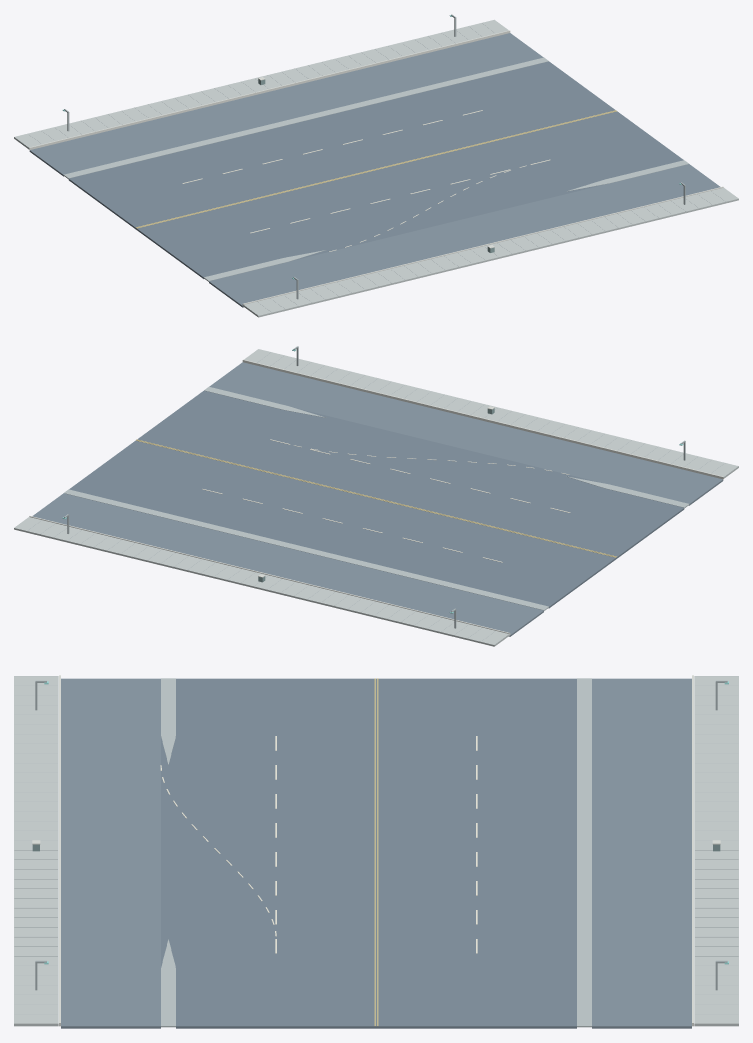
The model's file is city-w88-s39.glb.
The picture shows the model from 3 angles, top to bottom: view 1: azimuth 30°, elevation 25°; view 2: azimuth 150°, elevation 25°; view 3: azimuth 270°, elevation 25°; orthographic projection. The views are drawn at different scales.
Visible parts, largest first — view 1: Main_road, Frontage_roads, Sidewalk, Medians, Curbs, Merge_surface, Paving_joints, Center_lines; view 2: Main_road, Frontage_roads, Sidewalk, Medians, Curbs, Merge_surface, Paving_joints, Center_lines; view 3: Main_road, Frontage_roads, Sidewalk, Medians, Paving_joints, Merge_surface, Curbs, Center_lines.
Part boxes in pixels (box(x1,y1,x2,y2)): Main_road: box(68, 61, 683, 278); Frontage_roads: box(29, 33, 720, 307); Sidewalk: box(14, 19, 738, 317); Medians: box(63, 57, 688, 281); Curbs: box(29, 30, 723, 305); Merge_surface: box(290, 181, 606, 260); Paving_joints: box(14, 23, 725, 315); Center_lines: box(136, 110, 616, 228); Main_road: box(69, 390, 684, 608); Frontage_roads: box(32, 362, 723, 636); Sidewalk: box(14, 349, 738, 646); Medians: box(64, 387, 689, 610); Curbs: box(29, 359, 723, 635); Merge_surface: box(285, 408, 601, 487); Paving_joints: box(27, 352, 738, 644); Center_lines: box(136, 439, 616, 557); Main_road: box(176, 678, 576, 1028); Frontage_roads: box(61, 678, 691, 1028); Sidewalk: box(14, 676, 738, 1026); Medians: box(161, 678, 591, 1027); Paving_joints: box(14, 676, 738, 1014); Merge_surface: box(161, 737, 175, 967); Curbs: box(59, 675, 693, 1026); Center_lines: box(374, 678, 378, 1026).
Size of the model in its own units: 72 by 3.26 by 63.45.
